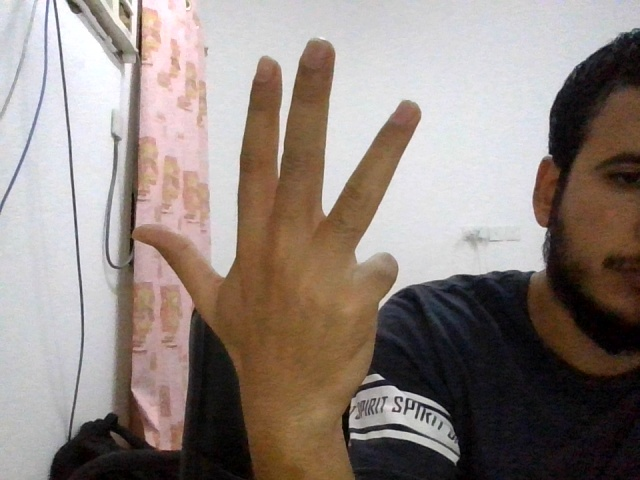Four: (131, 36, 422, 418)
